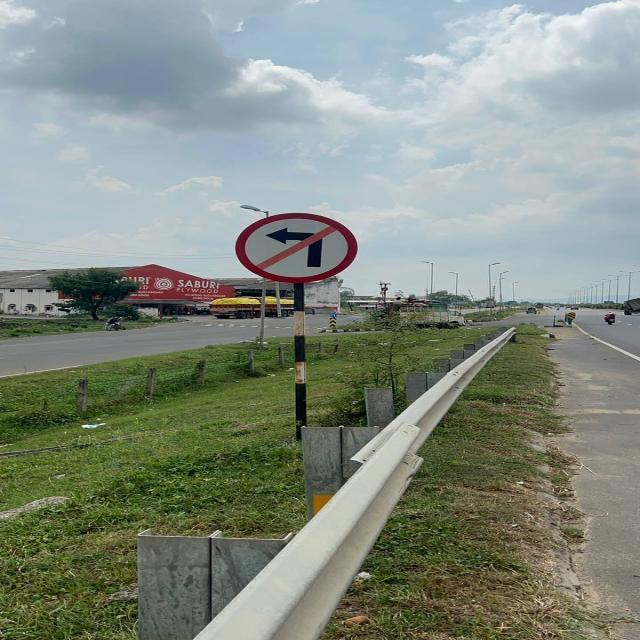left turn prohibited: (233, 212, 358, 285)
